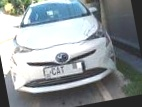car: (0, 0, 119, 99)
